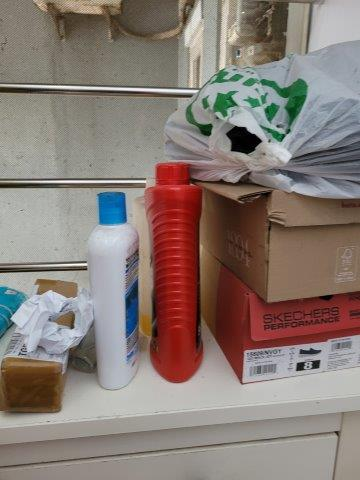kertas: (15, 288, 95, 355)
plastik: (165, 40, 360, 201)
